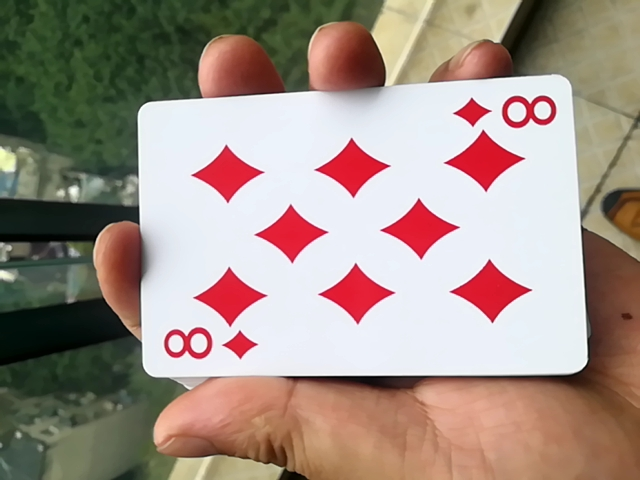fk 8: (121, 95, 576, 410)
